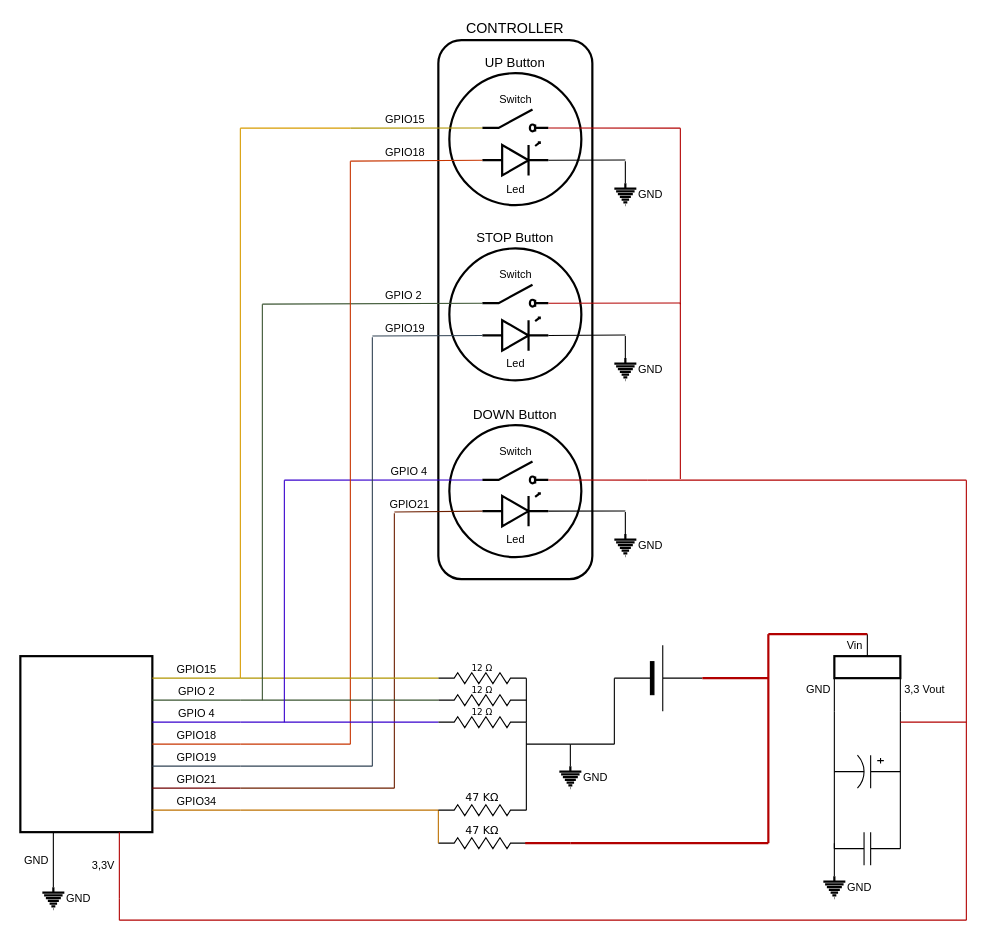
This 987x941 diagram has some shape labels left out. Each missing label, with the centre of its shape:
100 μF: pixel 866 771
10nF: pixel 866 848
4.2 V: pixel 657 677
ESP32: pixel 86 743
MCP1700: pixel 867 666
